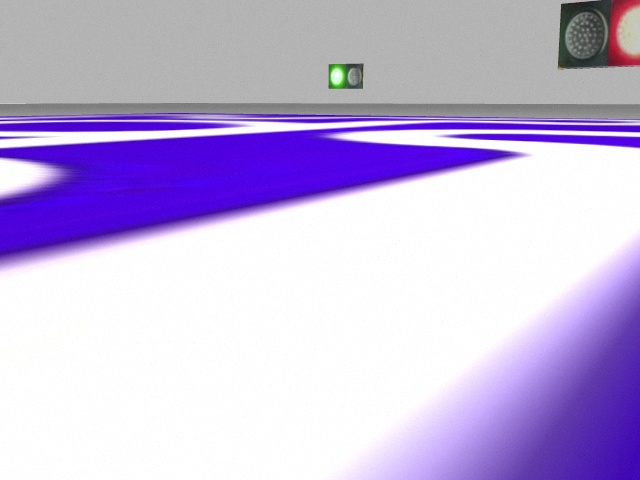red: (609, 2, 640, 64)
